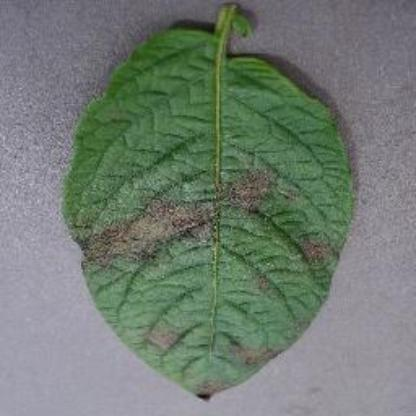Late-Blight: (47, 12, 354, 404)
